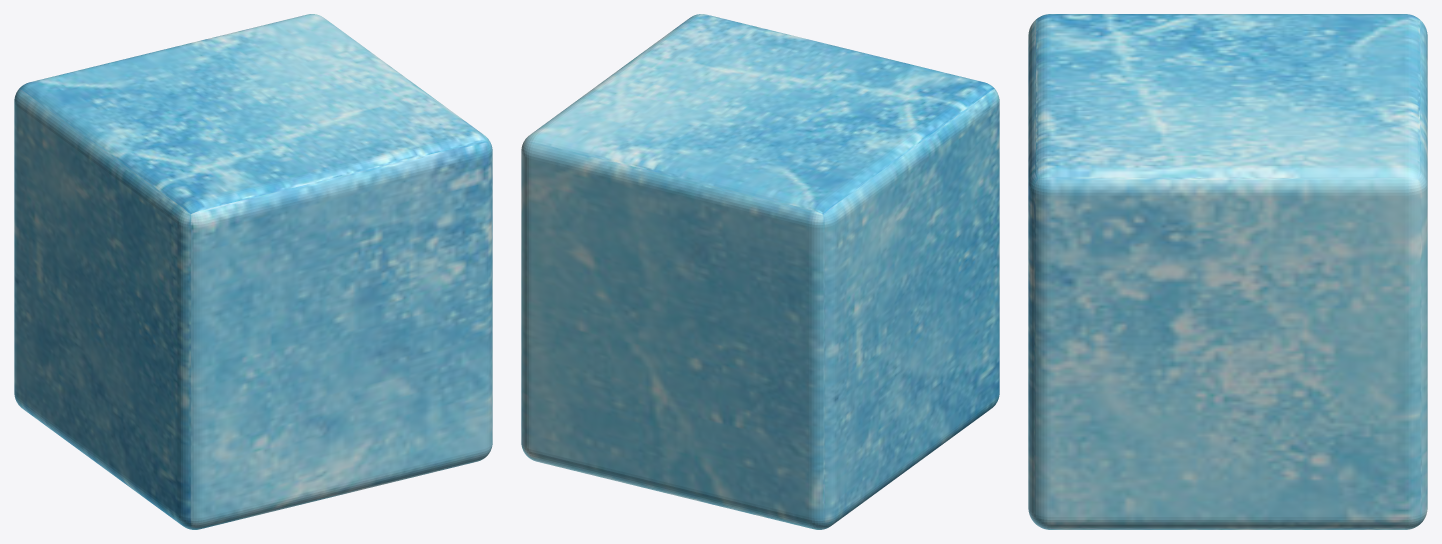
Rendered from ice_box.fbx.
The picture shows the model from 3 angles, left to right: view 1: azimuth 30°, elevation 25°; view 2: azimuth 150°, elevation 25°; view 3: azimuth 270°, elevation 25°; orthographic projection. The views are drawn at different scales.
Parts seen in each view (by area): view 1: Cube; view 2: Cube; view 3: Cube.
Part boxes in pixels (x1,y1,x2,y2): Cube: (14,14,492,529); Cube: (521,14,999,529); Cube: (1028,14,1427,529).
Size of the model in its own units: 200 by 200 by 200.
